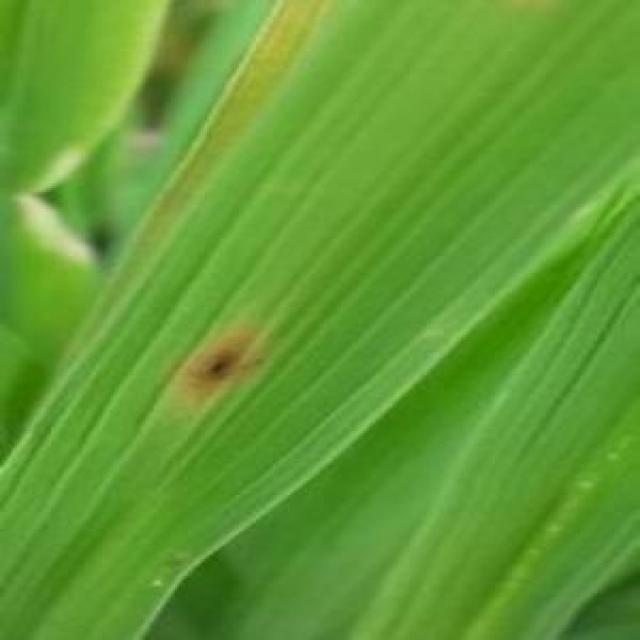brownspots: (183, 333, 252, 401)
